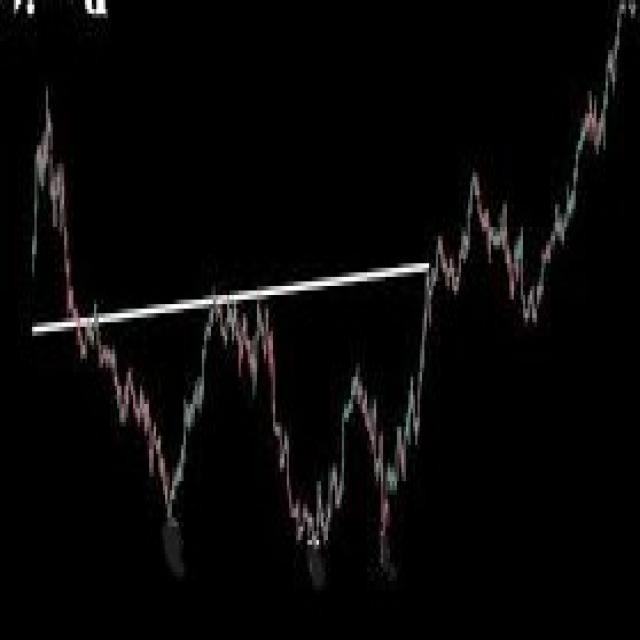Triple-Bottom: (91, 304, 438, 554)
